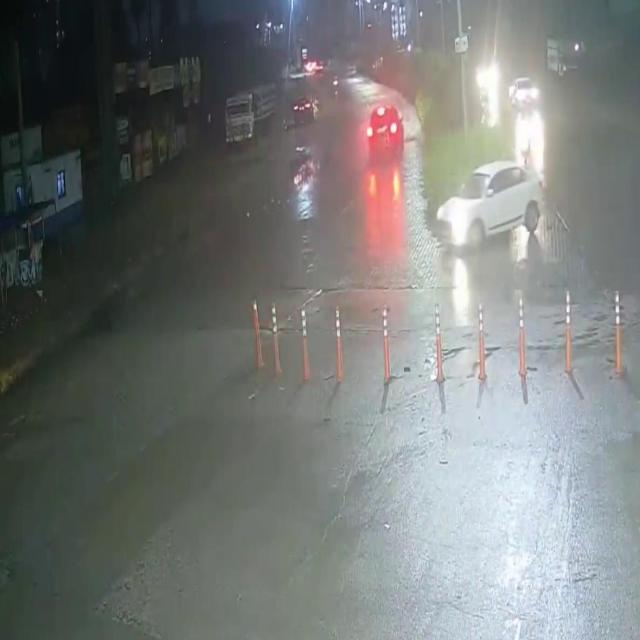accident: (287, 140, 325, 196)
